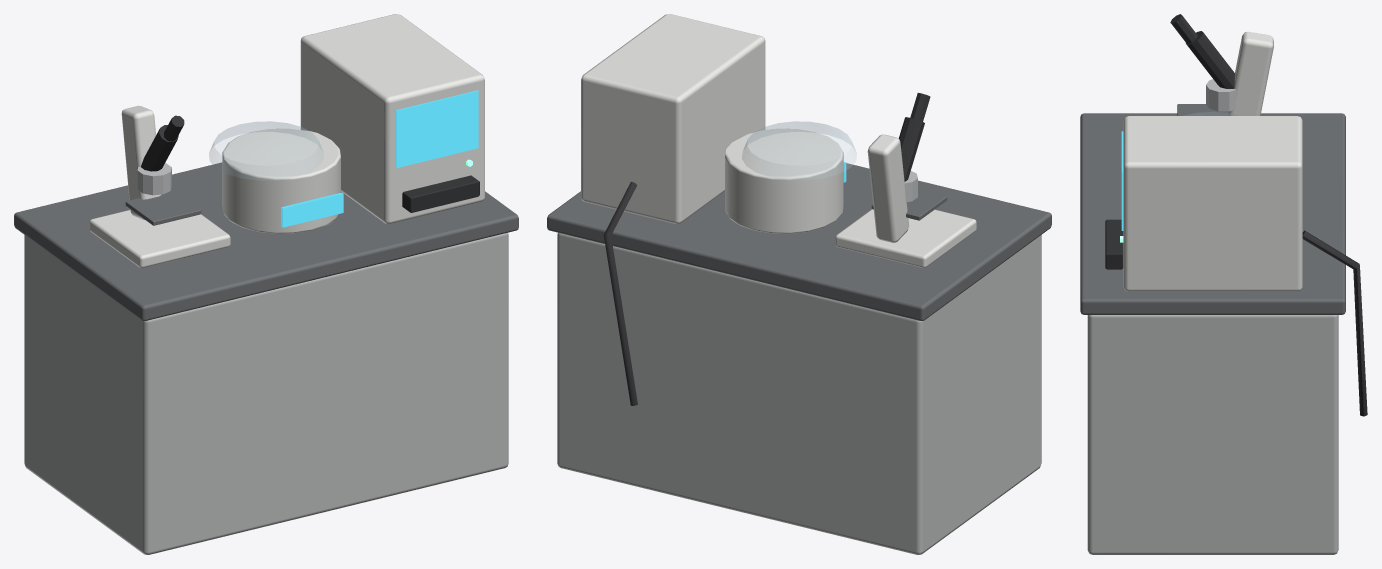
Rendered from lab_equipment.glb.
3 views of the same model, side by side, from view 1: azimuth 30°, elevation 25°; view 2: azimuth 150°, elevation 25°; view 3: azimuth 270°, elevation 25° (orthographic). The views are drawn at different scales.
Parts seen in each view (by area): view 1: lab_equipment; view 2: lab_equipment; view 3: lab_equipment.
Boxes of the visible parts, x1=… form: lab_equipment: x1=14, y1=14, x2=518, y2=554; lab_equipment: x1=547, y1=14, x2=1051, y2=554; lab_equipment: x1=1080, y1=14, x2=1367, y2=554.
Bounding box in the file's own units: 1.24 × 1.22 × 0.8007.
